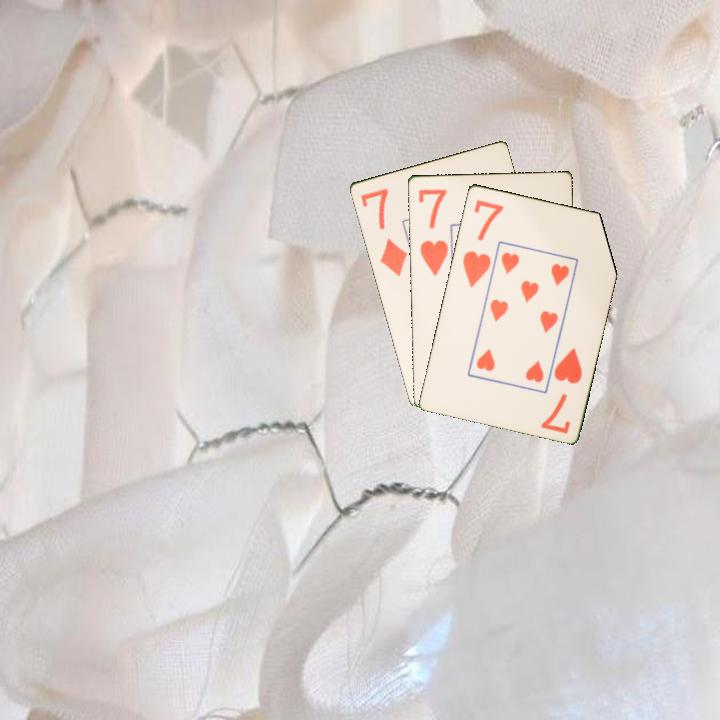7d: (356, 184, 410, 279)
7h: (459, 196, 506, 290), (538, 344, 585, 436), (415, 185, 451, 279)
